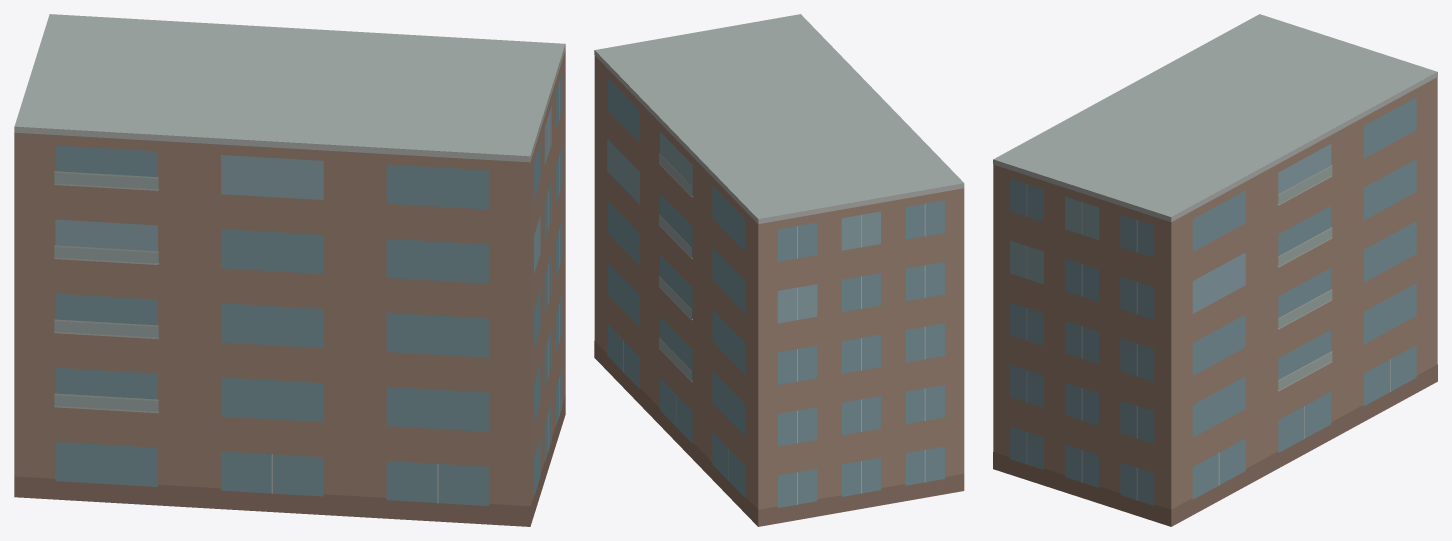
The model's file is survey-upis-32671270.glb.
3 renders of one model, left to right at view 1: azimuth 30°, elevation 25°; view 2: azimuth 150°, elevation 25°; view 3: azimuth 270°, elevation 25°, orthographic. The views are drawn at different scales.
Parts seen in each view (by area): view 1: survey-upis-32671270.tmp; view 2: survey-upis-32671270.tmp; view 3: survey-upis-32671270.tmp.
Part boxes in pixels (x1,y1,x2,y2): survey-upis-32671270.tmp: [14, 14, 565, 526]; survey-upis-32671270.tmp: [594, 14, 964, 526]; survey-upis-32671270.tmp: [993, 14, 1437, 526].
Size of the model in its own units: 20.97 by 14.9 by 19.39.
